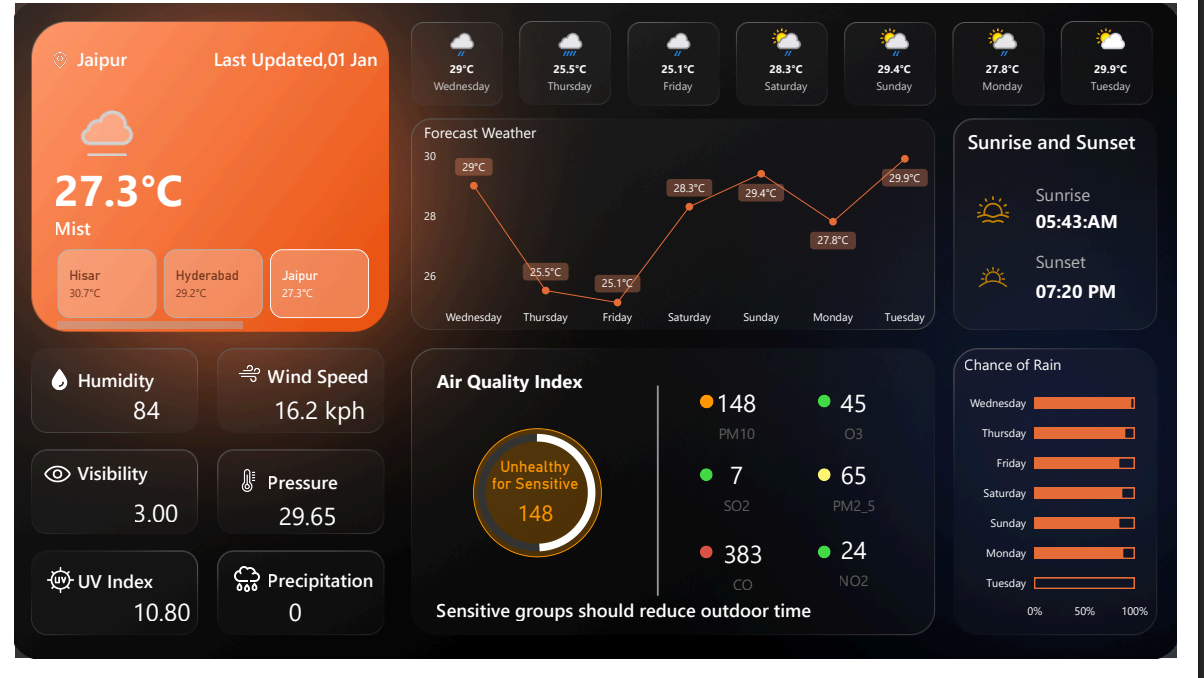

This screenshot's page, from the dashboard's own definition file:
{"tool":"powerbi","page":{"name":"Page 1","canvas":[1280,720],"ordinal":0},"visuals":[{"type":"shape","box":[500.2,462,140.6,140.6],"z":0},{"type":"advancedSlicerVisual","fields":{"Values":["Location.location.name"]},"box":[41.2,262.7,351,98],"z":1000},{"type":"shape","box":[44,170,194,54],"z":2000},{"type":"shape","box":[43.1,223.5,351,39.2],"z":3000},{"type":"shape","box":[68.6,33.3,115.7,51],"z":4000},{"type":"shape","box":[184,40,212,38],"z":5000},{"type":"image","box":[29.4,47.1,39.2,27.5],"z":6000},{"type":"cardVisual","fields":{"Data":["Min(current.current.condition.icon)"]},"box":[40,78,100,92],"z":7000},{"type":"image","box":[26,488,42,48],"z":8000},{"type":"shape","box":[68,488,110,44],"z":9000},{"type":"image","box":[16,392,66,34],"z":10000},{"type":"shape","box":[68,386,110,44],"z":11000},{"type":"image","box":[30,606,40,44],"z":12000},{"type":"shape","box":[68,606,110,44],"z":13000},{"type":"image","box":[238,386,38,34],"z":14000},{"type":"shape","box":[276,382,110,44],"z":15000},{"type":"image","box":[234,502,42,34],"z":16000},{"type":"shape","box":[276,498,110,44],"z":17000},{"type":"image","box":[232,604,44,46],"z":18000},{"type":"shape","box":[276,604,120,44],"z":19000},{"type":"card","fields":{"Values":["Sum(current.current.humidity)"]},"box":[72,420,144,46],"z":20000},{"type":"card","fields":{"Values":["_Measures.Wind_Speed"]},"box":[260,420,144,46],"z":21000},{"type":"card","fields":{"Values":["Sum(current.current.pressure_in)"]},"box":[248,536,144,46],"z":22000},{"type":"card","fields":{"Values":["Sum(current.current.precip_in)"]},"box":[234,648,144,32],"z":23000},{"type":"card","fields":{"Values":["Sum(current.current.vis_km)"]},"box":[82,532,144,46],"z":24000},{"type":"card","fields":{"Values":["Sum(current.current.uv)"]},"box":[88,640,144,46],"z":25000},{"type":"advancedSlicerVisual","fields":{"Values":["forcast_Day.Day_Name"]},"box":[428,16,828,90],"z":26000},{"type":"lineChart","title":"Forecast Weather","fields":{"Y":["Sum(forcast_Day.forecast.forecastday.day.avgtemp_c)"],"Category":["forcast_Day.Day_Name"]},"box":[442,124,566,236],"z":27000},{"type":"shape","box":[1040,130,196,40],"z":28000},{"type":"shape","box":[1114,208,96,54],"z":29000},{"type":"shape","box":[1114,284,96,54],"z":30000},{"type":"shape","box":[1114,190,96,34],"z":31000},{"type":"shape","box":[1114,262,122,34],"z":32000},{"type":"image","box":[1040,272,56,50],"z":33000},{"type":"image","box":[1040,202,56,44],"z":34000},{"type":"hundredPercentStackedBarChart","title":"Chance of Rain","fields":{"Category":["forcast_Day.Day_Name"],"Y":["Sum(forcast_Day.forecast.forecastday.day.daily_chance_of_rain)","current.Left_Value_Rain"]},"box":[1032,382,210,298],"z":35000},{"type":"shape","box":[460,382,180,54],"z":36000},{"type":"card","fields":{"Values":["Sum(current.current.air_quality.pm10)"]},"box":[734,404,108,84],"z":37000},{"type":"card","fields":{"Values":["Sum(current.current.air_quality.so2)"]},"box":[734,488,108,72],"z":38000},{"type":"card","fields":{"Values":["Sum(current.current.air_quality.co)"]},"box":[747.3,572.5,94.4,76.3],"z":39000},{"type":"card","fields":{"Values":["Sum(current.current.air_quality.o3)"]},"box":[861.8,403.8,108.5,84.4],"z":40000},{"type":"card","fields":{"Values":["Sum(current.current.air_quality.pm2_5)"]},"box":[861.8,488.1,108.5,72.3],"z":41000},{"type":"card","fields":{"Values":["Sum(current.current.air_quality.no2)"]},"box":[861.8,564.5,108.5,84.4],"z":42000},{"type":"shape","box":[747.3,425.9,15,15],"z":43000},{"type":"shape","box":[747.3,590.6,14.1,14.1],"z":44000},{"type":"shape","box":[875.8,425.9,14.1,14.1],"z":45000},{"type":"shape","box":[747.3,506.2,14.1,14.1],"z":46000},{"type":"shape","box":[875.8,506.2,14.1,14.1],"z":47000},{"type":"shape","box":[875.8,590.6,14.1,14.1],"z":48000},{"type":"shape","box":[656.9,415.8,90.4,229],"z":49000},{"type":"card","fields":{"Values":["Sum(current.current.air_quality.pm10)"]},"box":[514.3,494.2,108.5,84.4],"z":50000},{"type":"donutChart","fields":{"Y":["Sum(current.current.air_quality.pm10)","_Measures.Left_value_PM10"]},"box":[392.5,447.5,355,170],"z":51000},{"type":"shape","box":[460,637.8,428.9,42.2],"z":51001}]}

Visuals, with their boxes in screenshot pixels (x1, y1, x2, y2), scaled from the page's 1280x720 canvas onto the 1204x678 screenshot:
shape: region(471, 435, 603, 567)
advancedSlicerVisual - Location.location.name: region(39, 247, 369, 340)
shape: region(41, 160, 224, 211)
shape: region(41, 210, 371, 247)
shape: region(65, 31, 173, 79)
shape: region(173, 38, 372, 73)
image: region(28, 44, 65, 70)
cardVisual - Min(current.current.condition.icon): region(38, 73, 132, 160)
image: region(24, 460, 64, 505)
shape: region(64, 460, 167, 501)
image: region(15, 369, 77, 401)
shape: region(64, 363, 167, 405)
image: region(28, 571, 66, 612)
shape: region(64, 571, 167, 612)
image: region(224, 363, 260, 396)
shape: region(260, 360, 363, 401)
image: region(220, 473, 260, 505)
shape: region(260, 469, 363, 510)
image: region(218, 569, 260, 612)
shape: region(260, 569, 372, 610)
card - Sum(current.current.humidity): region(68, 396, 203, 439)
card - _Measures.Wind_Speed: region(245, 396, 380, 439)
card - Sum(current.current.pressure_in): region(233, 505, 369, 548)
card - Sum(current.current.precip_in): region(220, 610, 356, 640)
card - Sum(current.current.vis_km): region(77, 501, 213, 544)
card - Sum(current.current.uv): region(83, 603, 218, 646)
advancedSlicerVisual - forcast_Day.Day_Name: region(403, 15, 1181, 100)
"Forecast Weather" lineChart: region(416, 117, 948, 339)
shape: region(978, 122, 1163, 160)
shape: region(1048, 196, 1138, 247)
shape: region(1048, 267, 1138, 318)
shape: region(1048, 179, 1138, 211)
shape: region(1048, 247, 1163, 279)
image: region(978, 256, 1031, 303)
image: region(978, 190, 1031, 232)
"Chance of Rain" hundredPercentStackedBarChart: region(971, 360, 1168, 640)
shape: region(433, 360, 602, 411)
card - Sum(current.current.air_quality.pm10): region(690, 380, 792, 460)
card - Sum(current.current.air_quality.so2): region(690, 460, 792, 527)
card - Sum(current.current.air_quality.co): region(703, 539, 792, 611)
card - Sum(current.current.air_quality.o3): region(811, 380, 913, 460)
card - Sum(current.current.air_quality.pm2_5): region(811, 460, 913, 528)
card - Sum(current.current.air_quality.no2): region(811, 532, 913, 611)
shape: region(703, 401, 717, 415)
shape: region(703, 556, 716, 569)
shape: region(824, 401, 837, 414)
shape: region(703, 477, 716, 490)
shape: region(824, 477, 837, 490)
shape: region(824, 556, 837, 569)
shape: region(618, 392, 703, 607)
card - Sum(current.current.air_quality.pm10): region(484, 465, 586, 545)
donutChart - Sum(current.current.air_quality.pm10) x _Measures.Left_value_PM10: region(369, 421, 703, 581)
shape: region(433, 601, 836, 640)
